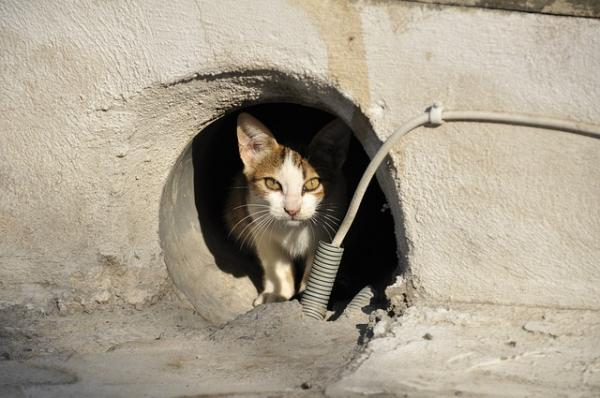cat: (202, 98, 350, 297)
